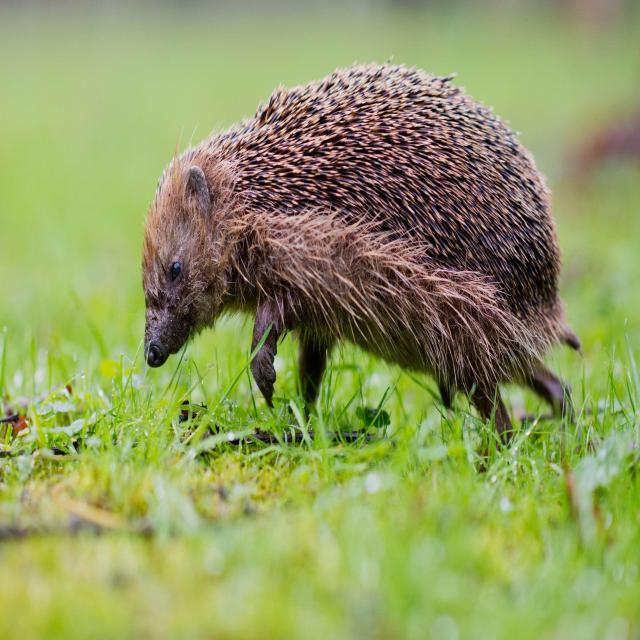Hedgehog: (130, 42, 585, 475)
